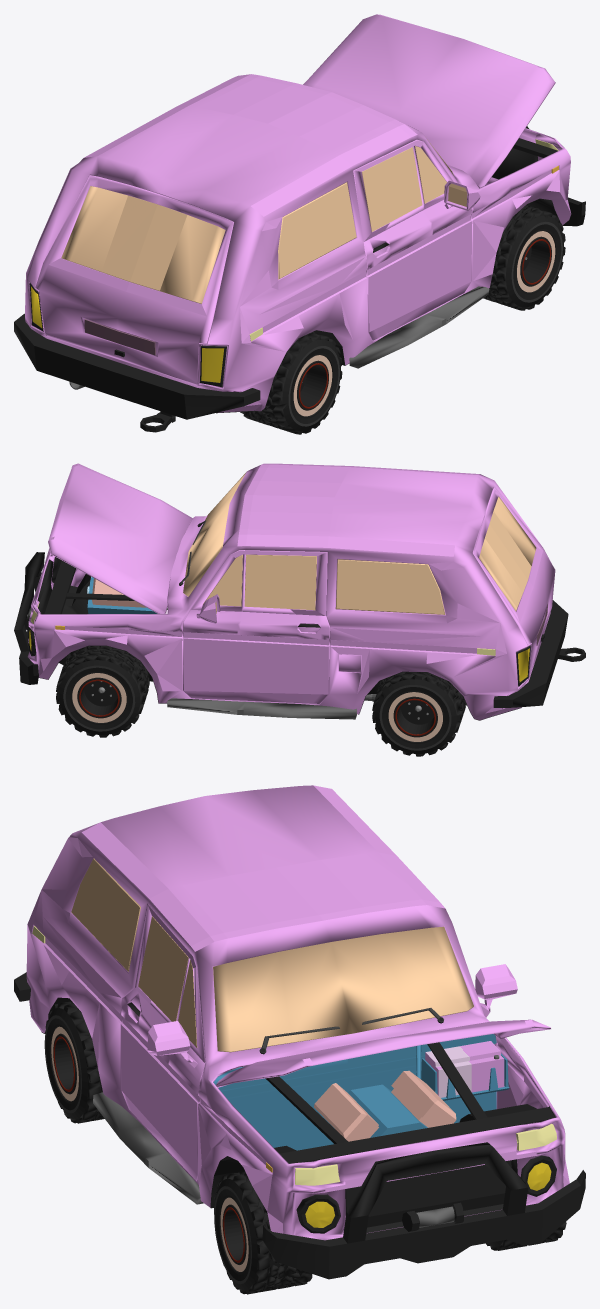
File: ToyObject_107.fbx
3 renders of one model, top to bottom at view 1: azimuth 30°, elevation 25°; view 2: azimuth 150°, elevation 25°; view 3: azimuth 270°, elevation 25°, orthographic. The views are drawn at different scales.
Parts seen in each view (by area): view 1: object-1.045; view 2: object-1.045; view 3: object-1.045.
Boxes of the visible parts, bbox=[...] form: object-1.045: bbox=[14, 14, 585, 434]; object-1.045: bbox=[14, 463, 585, 756]; object-1.045: bbox=[14, 785, 585, 1294].
Bounding box in the file's own units: 0.2026 × 0.0812 × 0.1519.
3 materials, 1 textured.
